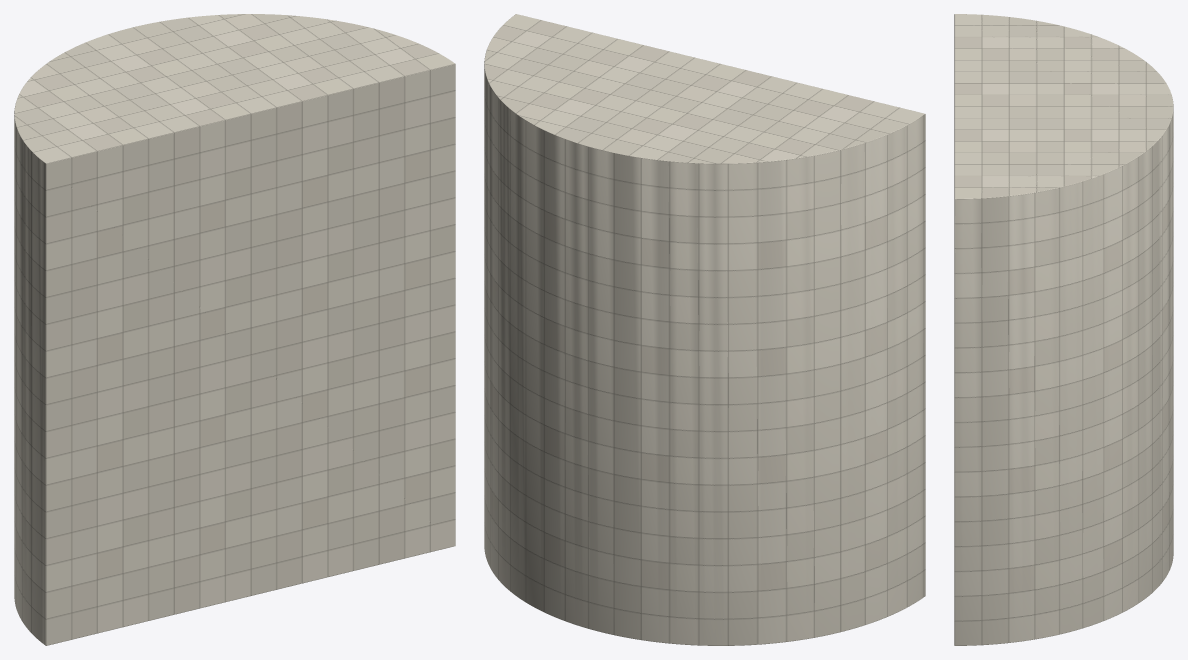
Rendered from MOD_53_Wall_ConvexMass_4m.glb.
The picture shows the model from 3 angles, left to right: view 1: azimuth 30°, elevation 25°; view 2: azimuth 150°, elevation 25°; view 3: azimuth 270°, elevation 25°; orthographic projection. The views are drawn at different scales.
Visible parts, largest first — view 1: MOD_53_Wall_ConvexMass_4m_Export; view 2: MOD_53_Wall_ConvexMass_4m_Export; view 3: MOD_53_Wall_ConvexMass_4m_Export.
Boxes of the visible parts, x1,y1,x2,y2 form: MOD_53_Wall_ConvexMass_4m_Export: (14, 14, 455, 645); MOD_53_Wall_ConvexMass_4m_Export: (484, 14, 925, 645); MOD_53_Wall_ConvexMass_4m_Export: (954, 14, 1173, 645).
Bounding box in the file's own units: 4 × 4.5 × 2.
1 material, 1 textured.
